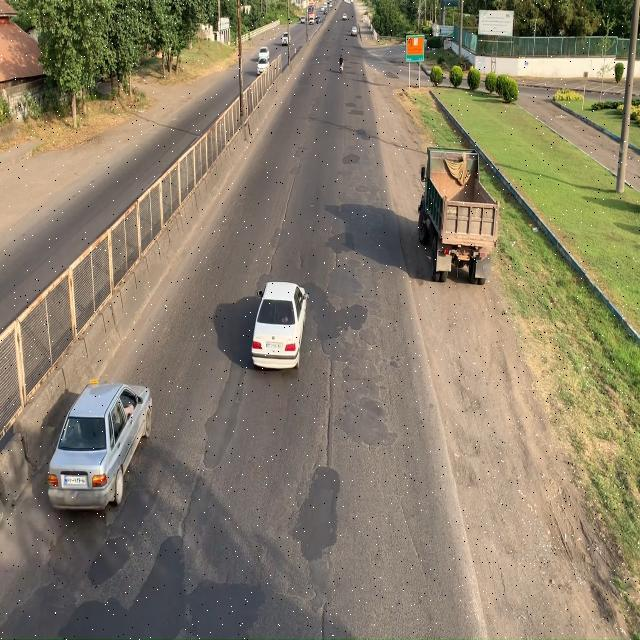Truck: (411, 150, 494, 290)
cars: (164, 474, 274, 640)
